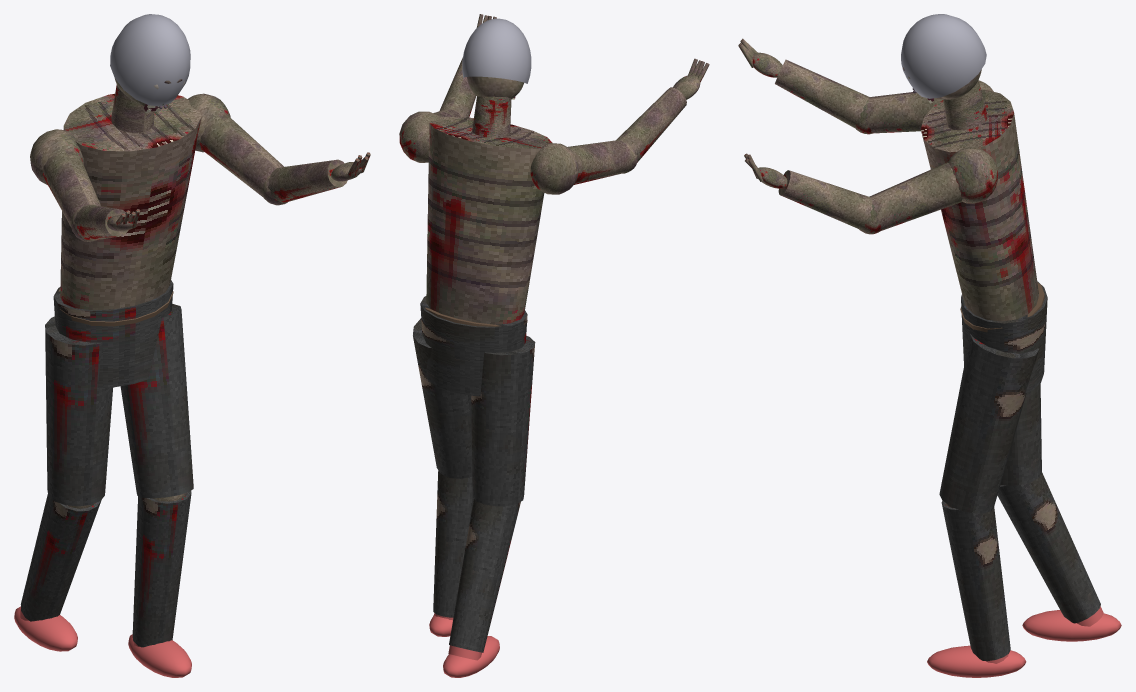
The model's file is Zombie_066.glb.
3 renders of one model, left to right at view 1: azimuth 30°, elevation 25°; view 2: azimuth 150°, elevation 25°; view 3: azimuth 270°, elevation 25°, orthographic. The views are drawn at different scales.
Parts seen in each view (by area): view 1: Zombie_066, object 40, object 10, object 3; view 2: Zombie_066, object 40, object 3, object 10, object 16; view 3: Zombie_066, object 40, object 3, object 10.
Part boxes in pixels (x1,y1,x2,y2): Zombie_066: [14, 84, 284, 677]; object 40: [110, 14, 190, 106]; object 10: [268, 159, 347, 202]; object 3: [74, 204, 128, 240]; Zombie_066: [399, 96, 631, 677]; object 40: [462, 18, 531, 83]; object 3: [616, 87, 686, 162]; object 10: [439, 57, 475, 117]; object 16: [467, 76, 523, 99]; Zombie_066: [865, 80, 1121, 677]; object 40: [901, 14, 986, 98]; object 3: [775, 59, 868, 127]; object 10: [778, 170, 872, 229].
Size of the model in its own units: 0.7477 by 1.89 by 1.02.
Materials: 16 (5 with a texture image).
